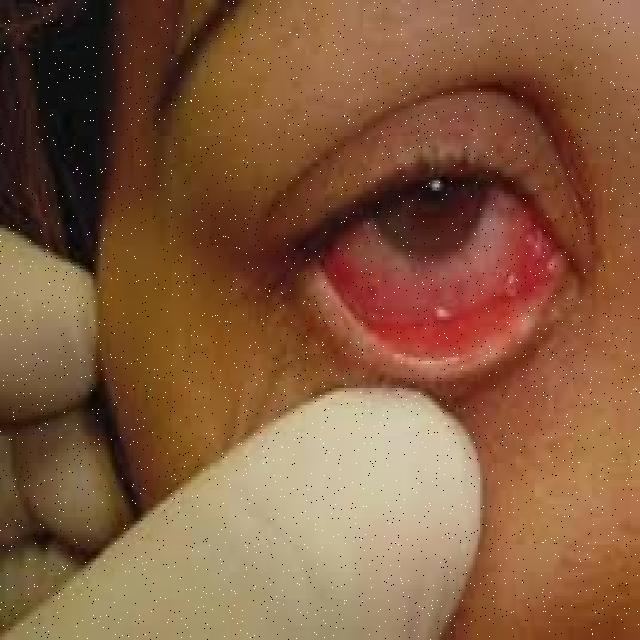Conjunctivitis: (310, 187, 576, 334)
